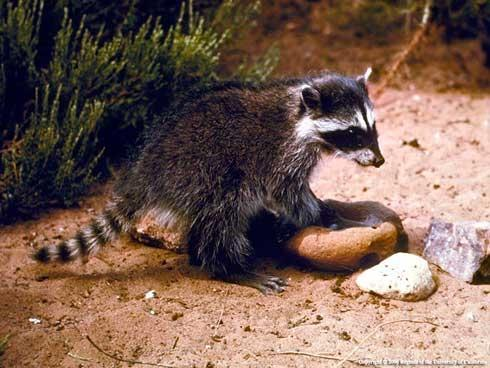raccoon: (32, 67, 387, 294)
